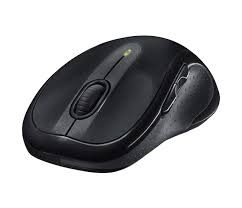mouse: (8, 11, 223, 176)
